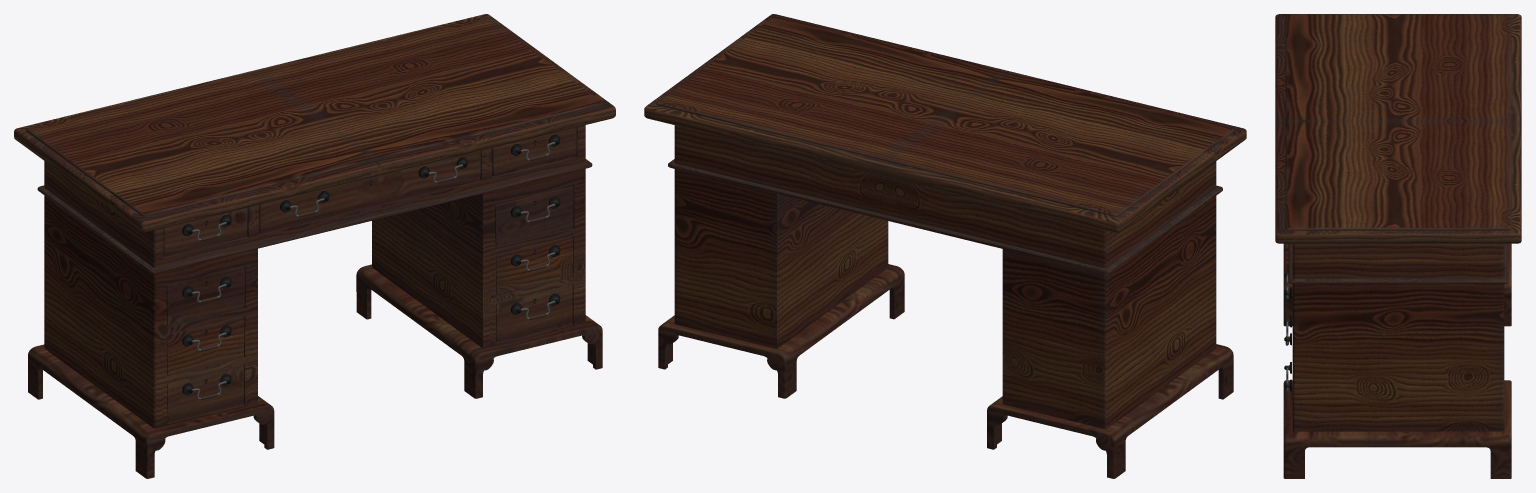
The model's file is desk3d.glb.
3 views of the same model, side by side, from view 1: azimuth 30°, elevation 25°; view 2: azimuth 150°, elevation 25°; view 3: azimuth 270°, elevation 25° (orthographic). The views are drawn at different scales.
Visible parts, largest first — view 1: Wood Desk; view 2: Wood Desk; view 3: Wood Desk.
Boxes of the visible parts, x1,y1,x2,y2 form: Wood Desk: (14, 14, 615, 478); Wood Desk: (644, 14, 1246, 478); Wood Desk: (1275, 14, 1521, 478).
Size of the model in its own units: 1.31 by 0.6979 by 0.6188.
1 material, 1 textured.
